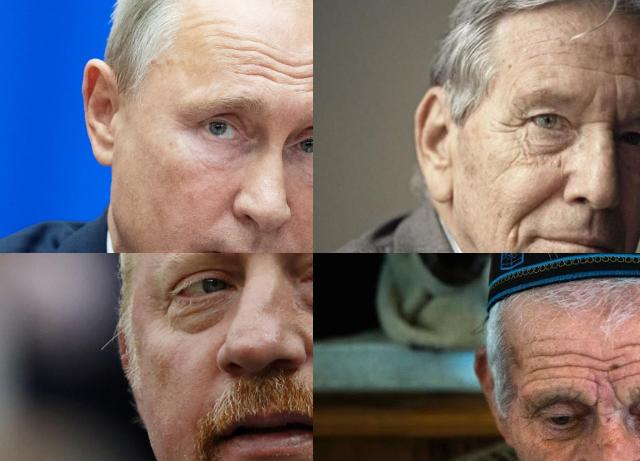crows_feet: (494, 106, 522, 142), (150, 296, 176, 324)
forehead: (276, 50, 310, 90), (238, 46, 272, 82), (524, 30, 552, 66), (531, 347, 571, 372), (576, 348, 608, 376), (525, 372, 573, 387), (613, 358, 640, 382), (617, 334, 640, 354)
frown_line: (604, 382, 628, 408), (580, 111, 606, 127), (584, 82, 600, 108), (590, 382, 604, 410), (610, 74, 622, 104)
gummy_smile: (512, 186, 542, 232)
masseter: (494, 150, 522, 172)
